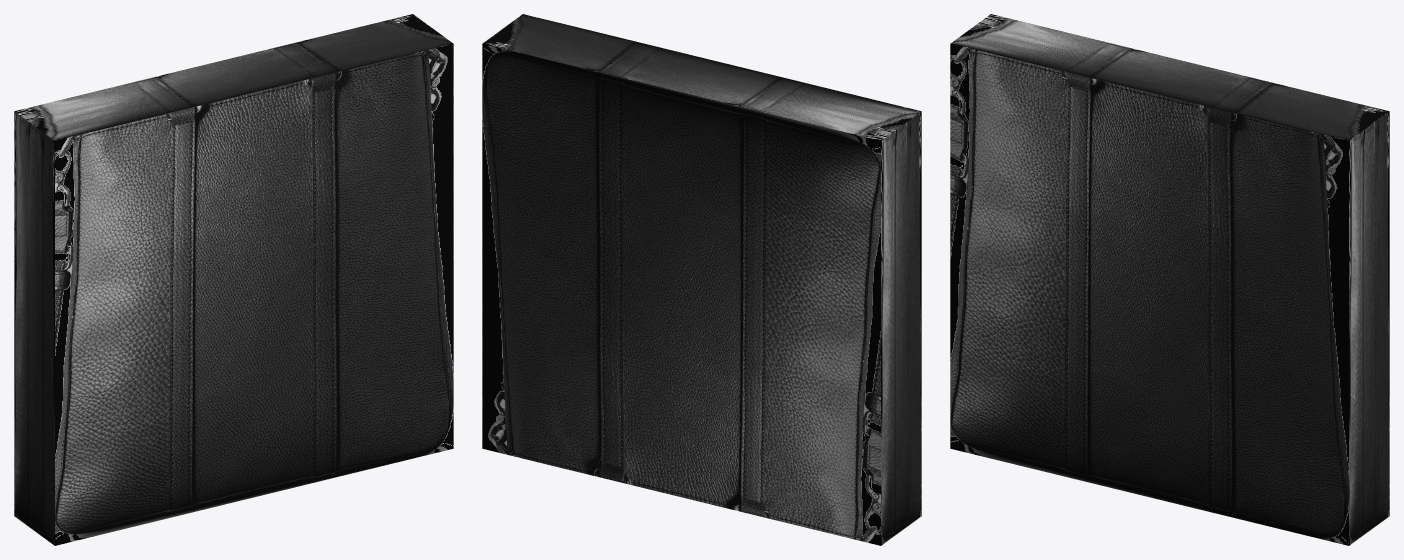
File: bag.glb
The picture shows the model from 3 angles, left to right: view 1: azimuth 30°, elevation 25°; view 2: azimuth 150°, elevation 25°; view 3: azimuth 330°, elevation 25°; orthographic projection.
Parts seen in each view (by area): view 1: bag; view 2: bag; view 3: bag.
Boxes of the visible parts, bbox=[...] form: bag: bbox=[14, 14, 453, 545]; bag: bbox=[482, 14, 921, 545]; bag: bbox=[950, 14, 1389, 545].
Bounding box in the file's own units: 0.34 × 0.33 × 0.06.
Materials: 1 (1 with a texture image).
